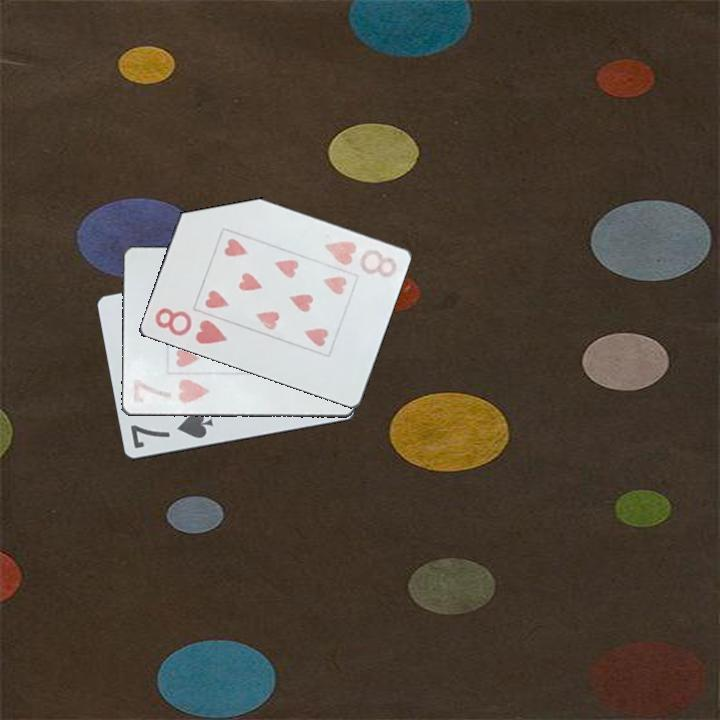7h: (128, 374, 212, 408)
7s: (127, 408, 216, 452)
8h: (151, 304, 230, 348), (321, 237, 400, 281)
